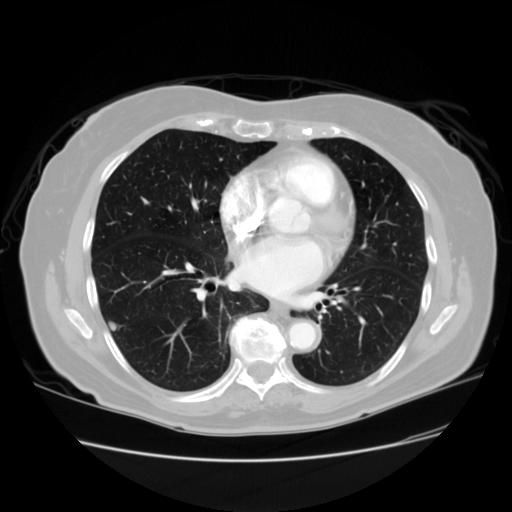nodule: (106, 319, 120, 333)
